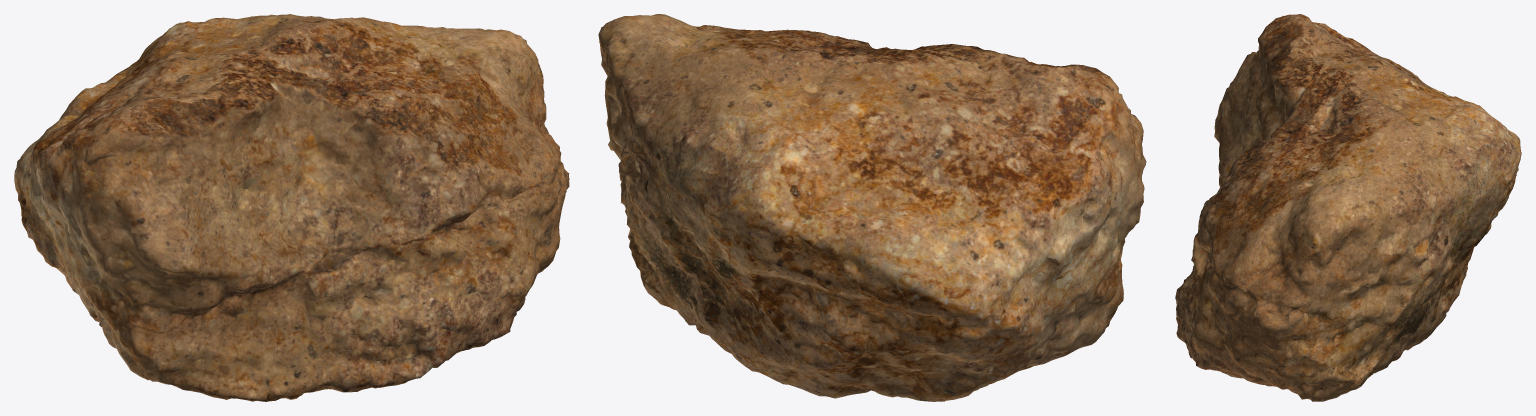
Rendered from Batu.fbx.
The picture shows the model from 3 angles, left to right: view 1: azimuth 30°, elevation 25°; view 2: azimuth 150°, elevation 25°; view 3: azimuth 270°, elevation 25°; orthographic projection. The views are drawn at different scales.
Visible parts, largest first — view 1: Rock; view 2: Rock; view 3: Rock.
Part boxes in pixels (x1=…): Rock: x1=14, y1=14, x2=569, y2=401; Rock: x1=598, y1=14, x2=1146, y2=401; Rock: x1=1175, y1=14, x2=1521, y2=401.
Size of the model in its own units: 199 by 115 by 147.
1 material, 1 textured.
